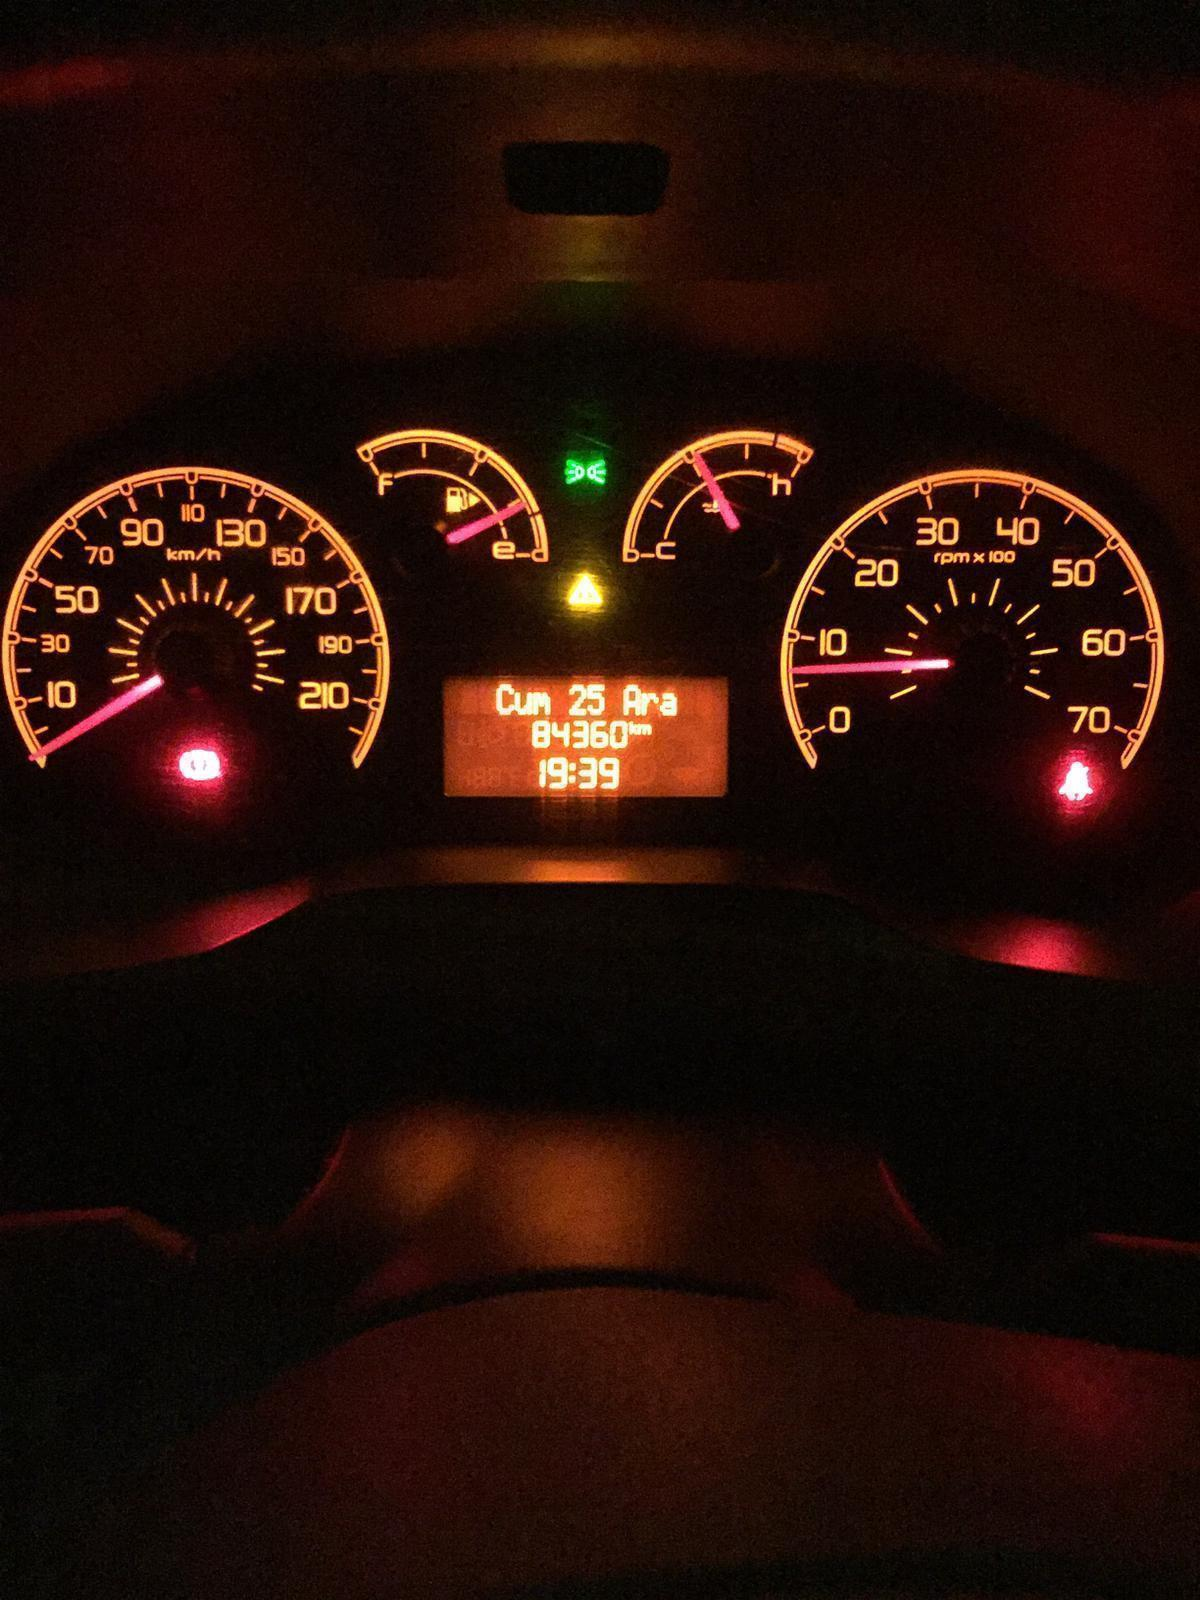0: (610, 721, 626, 750)
1: (538, 757, 548, 787)
2: (568, 684, 586, 717)
3: (579, 755, 597, 790), (572, 718, 590, 750)
4: (550, 721, 570, 748)
5: (587, 682, 608, 716)
6: (590, 719, 610, 751)
8: (532, 719, 551, 748)
9: (599, 755, 620, 790), (547, 756, 568, 789)
X: (494, 684, 516, 716), (621, 683, 640, 716), (514, 689, 533, 716), (533, 688, 550, 716), (640, 690, 658, 716), (662, 690, 677, 717), (638, 721, 655, 737), (568, 760, 577, 786), (628, 719, 639, 736)
odometer: (434, 670, 734, 804)
